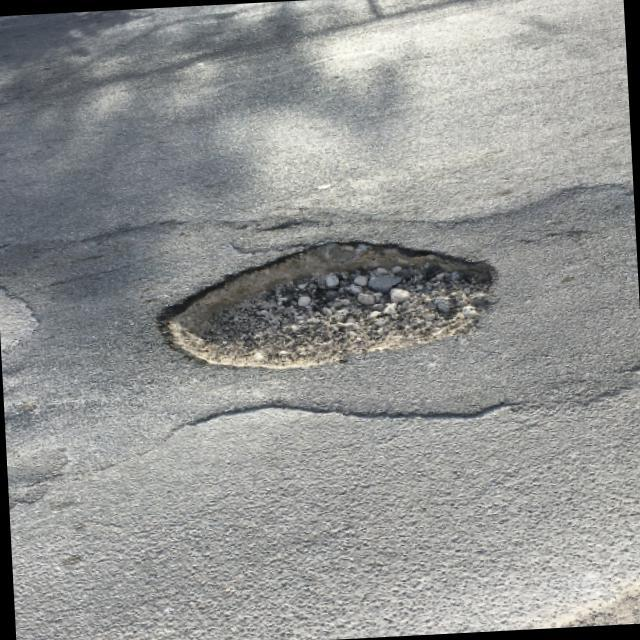Pothole: (154, 227, 502, 384)
